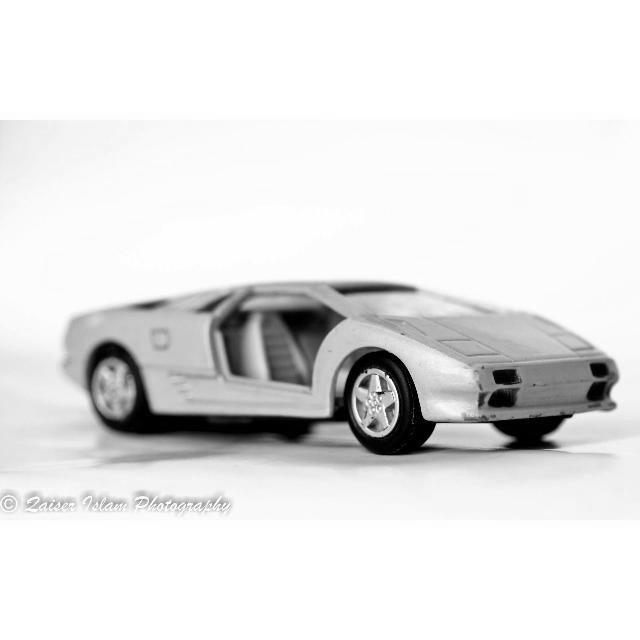front-bumper-dent: (441, 358, 623, 427)
